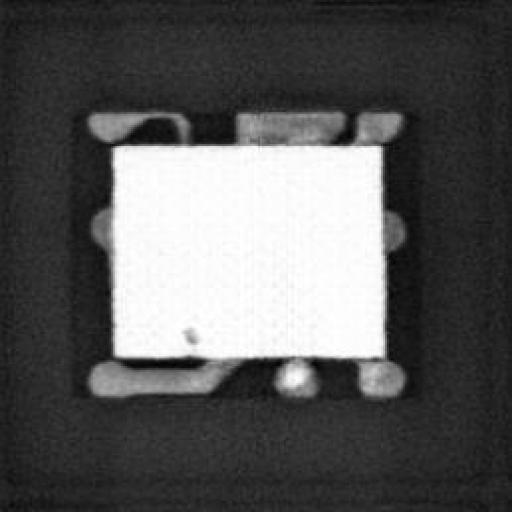DIE_INK: (178, 320, 200, 344)
